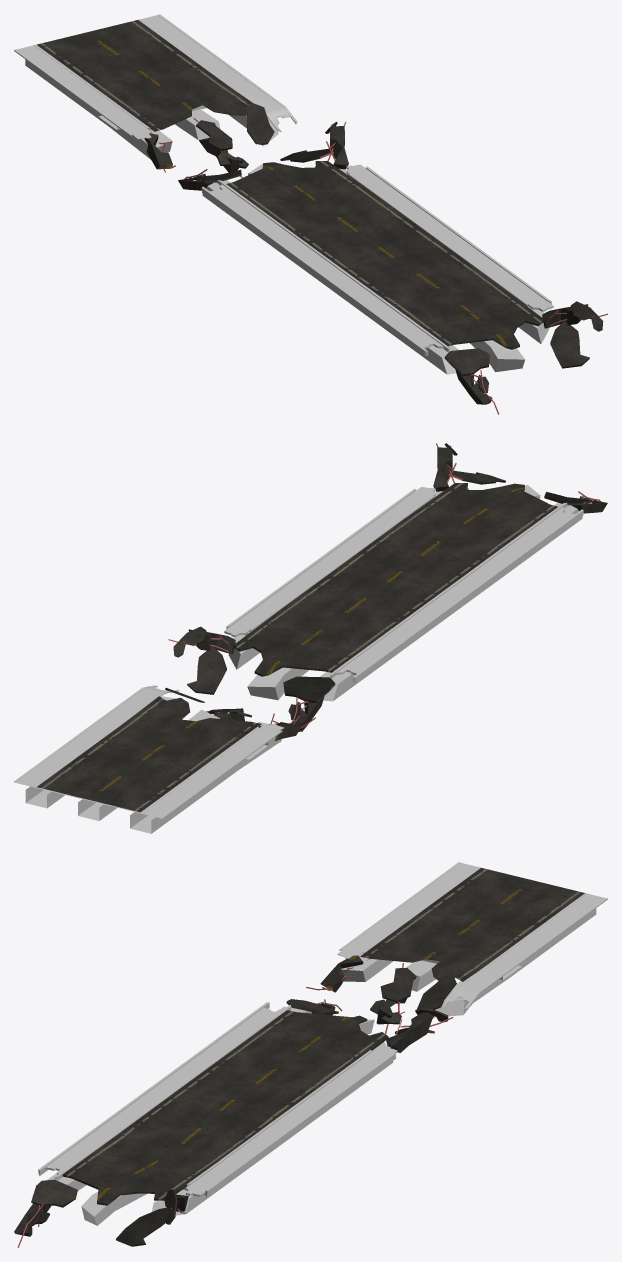
Rendered from Bridge.fbx.
3 views of the same model, one above another, from view 1: azimuth 30°, elevation 25°; view 2: azimuth 150°, elevation 25°; view 3: azimuth 330°, elevation 25° (orthographic). The views are drawn at different scales.
Visible parts, largest first — view 1: Bridge_Damage_A, Bridge_Damage_B; view 2: Bridge_Damage_A, Bridge_Damage_B; view 3: Bridge_Damage_A, Bridge_Damage_B.
Part boxes in pixels (x1,y1,x2,y2): Bridge_Damage_A: [178, 121, 607, 414]; Bridge_Damage_B: [14, 14, 297, 177]; Bridge_Damage_A: [168, 443, 607, 742]; Bridge_Damage_B: [14, 685, 315, 833]; Bridge_Damage_A: [14, 999, 453, 1247]; Bridge_Damage_B: [306, 862, 607, 1034].
Size of the model in its own units: 1683 by 605 by 8149.
